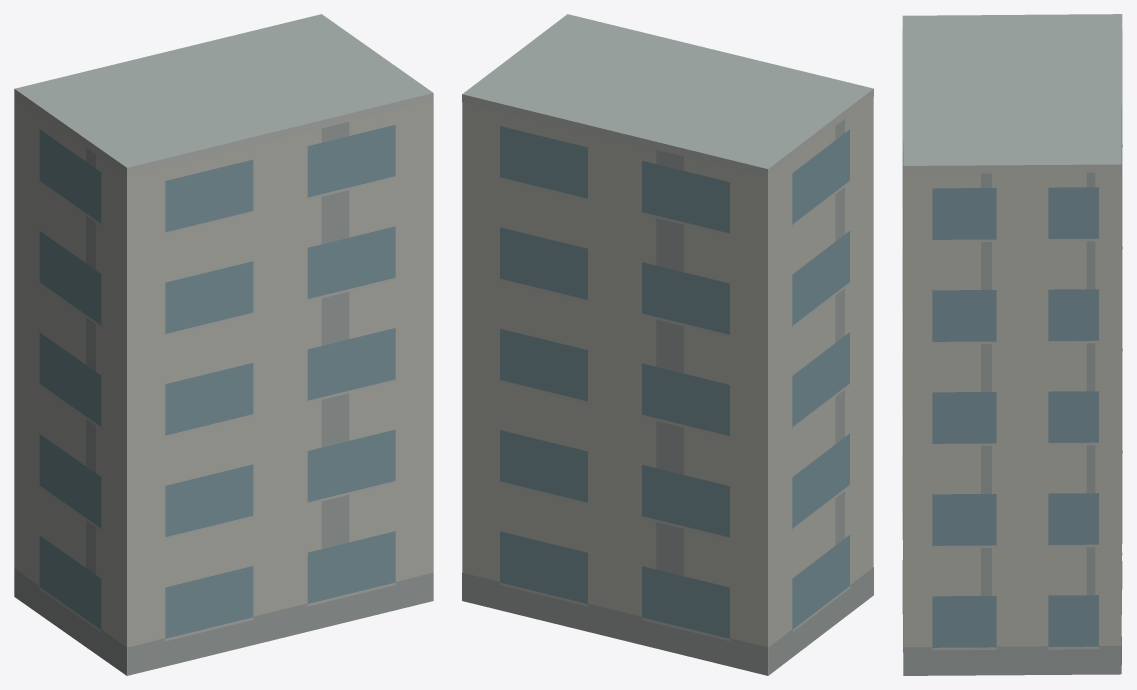
Rendered from survey-upis-32951366.glb.
The picture shows the model from 3 angles, left to right: view 1: azimuth 30°, elevation 25°; view 2: azimuth 150°, elevation 25°; view 3: azimuth 270°, elevation 25°; orthographic projection.
Parts seen in each view (by area): view 1: survey-upis-32951366.tmp; view 2: survey-upis-32951366.tmp; view 3: survey-upis-32951366.tmp.
Part boxes in pixels (x1,y1,x2,y2): survey-upis-32951366.tmp: (14,14,433,675); survey-upis-32951366.tmp: (462,14,873,675); survey-upis-32951366.tmp: (902,14,1122,675).
Bounding box in the file's own units: 9.79 × 15.3 × 5.99.
